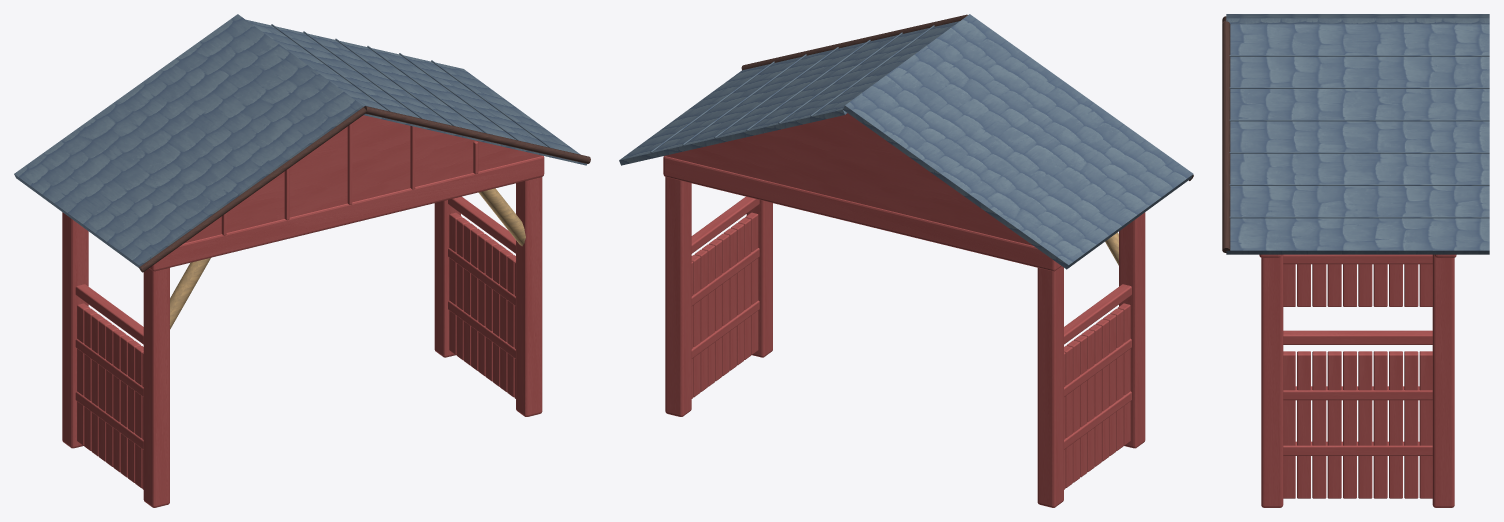
The model's file is covered_bridge.glb.
3 renders of one model, left to right at view 1: azimuth 30°, elevation 25°; view 2: azimuth 150°, elevation 25°; view 3: azimuth 270°, elevation 25°, orthographic. The views are drawn at different scales.
Visible parts, largest first — view 1: covered_bridge; view 2: covered_bridge; view 3: covered_bridge.
Boxes of the visible parts, x1=… form: covered_bridge: x1=14, y1=14, x2=590, y2=507; covered_bridge: x1=619, y1=14, x2=1193, y2=507; covered_bridge: x1=1222, y1=14, x2=1489, y2=507.
Size of the model in its own units: 8.97 by 7.01 by 4.37.
Materials: 1 (1 with a texture image).
